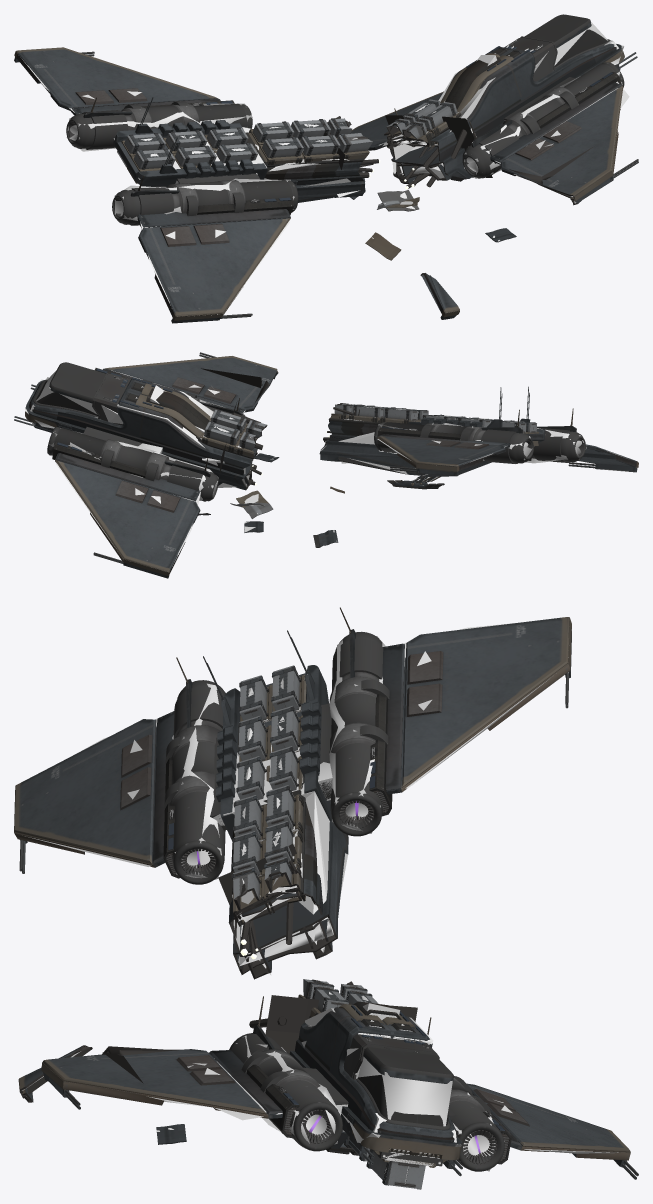
Rendered from Dedalo.fbx.
3 renders of one model, top to bottom at view 1: azimuth 30°, elevation 25°; view 2: azimuth 150°, elevation 25°; view 3: azimuth 270°, elevation 25°, orthographic. The views are drawn at different scales.
Parts seen in each view (by area): view 1: Dedalo_LOD0, Dedalo_Colisao; view 2: Dedalo_LOD0, Dedalo_Colisao; view 3: Dedalo_LOD0, Dedalo_Colisao.
Part boxes in pixels (x1,y1,x2,y2): Dedalo_LOD0: (14, 14, 638, 323); Dedalo_Colisao: (22, 22, 629, 315); Dedalo_LOD0: (14, 352, 638, 578); Dedalo_Colisao: (25, 370, 627, 566); Dedalo_LOD0: (14, 607, 638, 1189); Dedalo_Colisao: (22, 623, 623, 1183).
Size of what is drawn, in the model's own units: 32.81 by 11.35 by 20.38.
